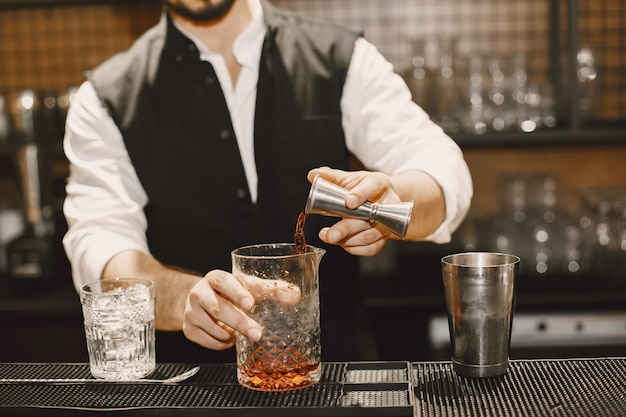alcohol: (229, 242, 325, 393)
